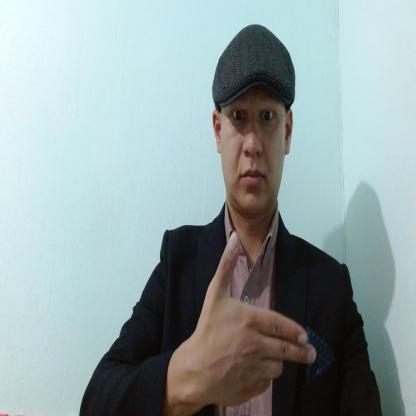H: (195, 232, 318, 406)
